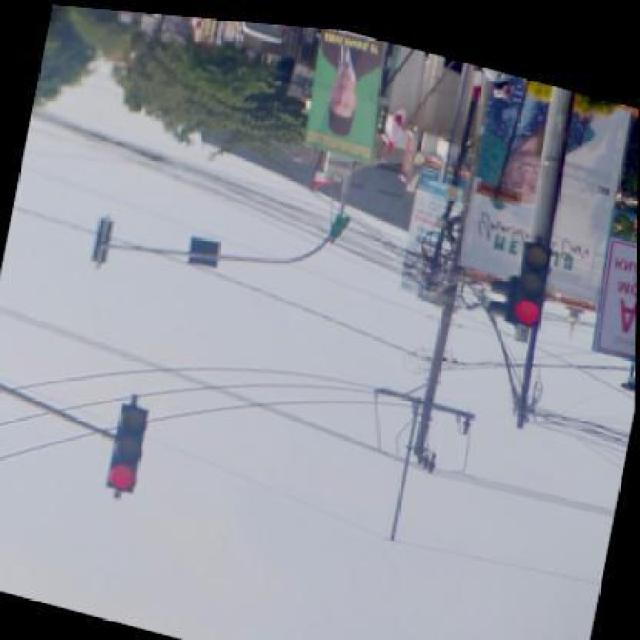Traffic Light -Red-: (98, 399, 154, 503), (508, 232, 557, 336)
